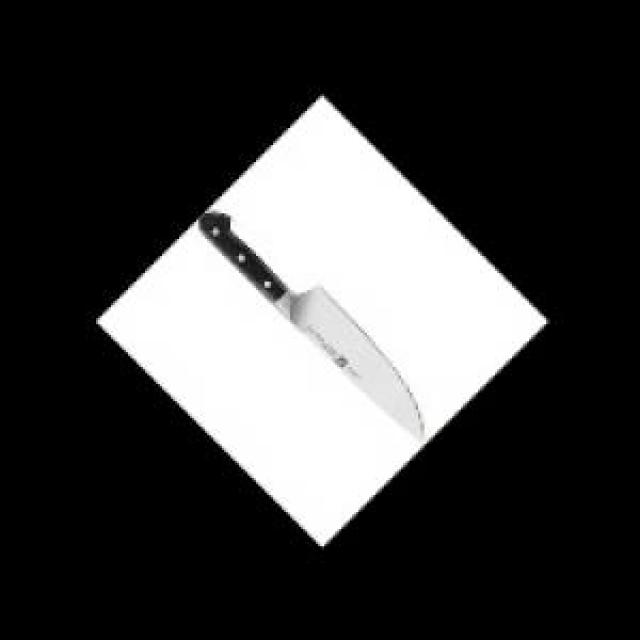knife: (198, 213, 429, 440)
